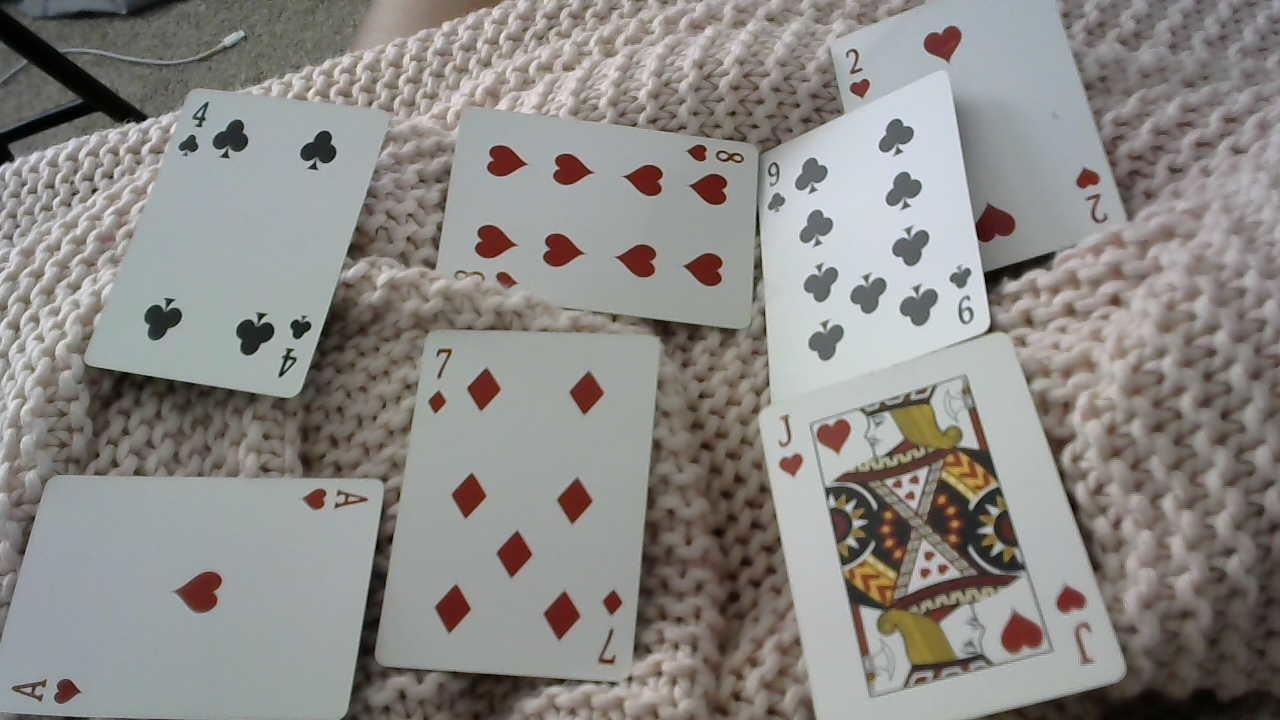2H: (840, 41, 877, 106), (1073, 162, 1109, 227)
4C: (274, 311, 314, 384), (174, 95, 212, 159)
7D: (593, 584, 627, 673), (424, 340, 459, 418)
8H: (682, 140, 750, 171)
9C: (944, 261, 978, 327), (759, 154, 789, 217)
AH: (8, 671, 84, 716), (296, 484, 372, 516)
JH: (1048, 578, 1103, 675), (770, 407, 807, 483)
